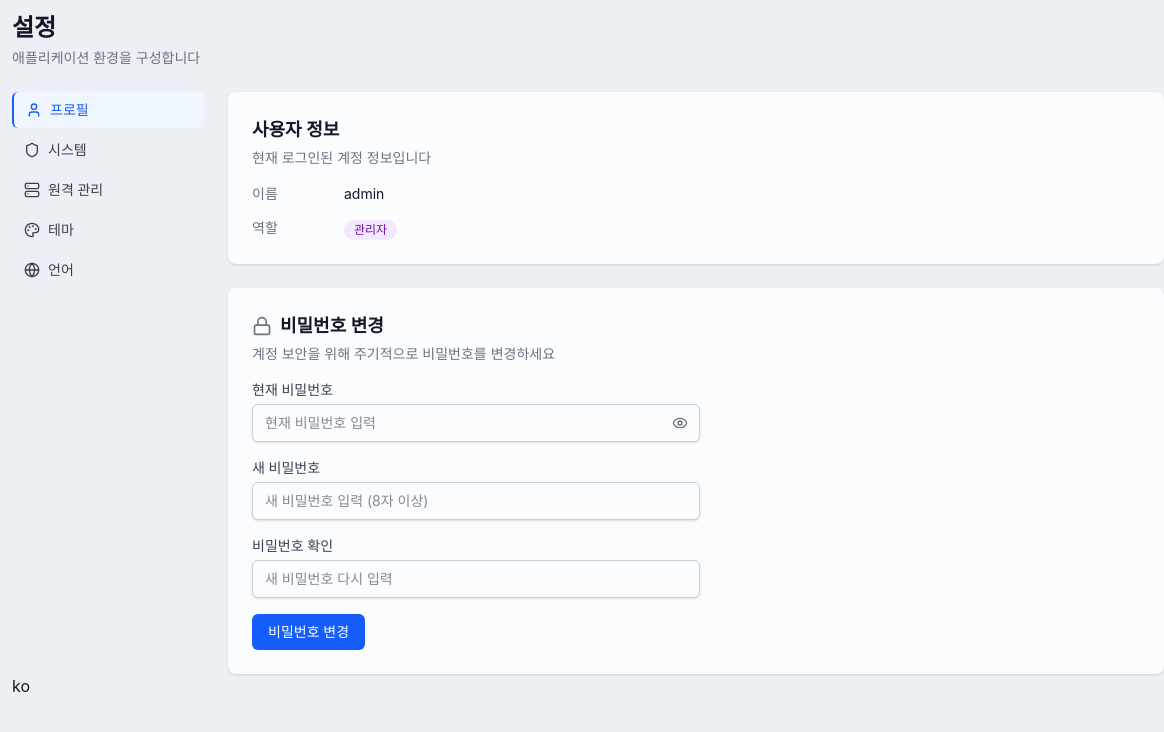
it: SettingsPage 언어 탭 — i18n 연동 › English 라디오 클릭 시 i18n locale 이 en 으로 전환된다
The width and height of the screenshot is (1164, 732).
Expected: the text with test id "locale-probe" reads "ko", [12,676,30,696]
// 언어 탭으로 전환.
Click the button "언어".
click(108, 270)  # box [12,252,204,288]
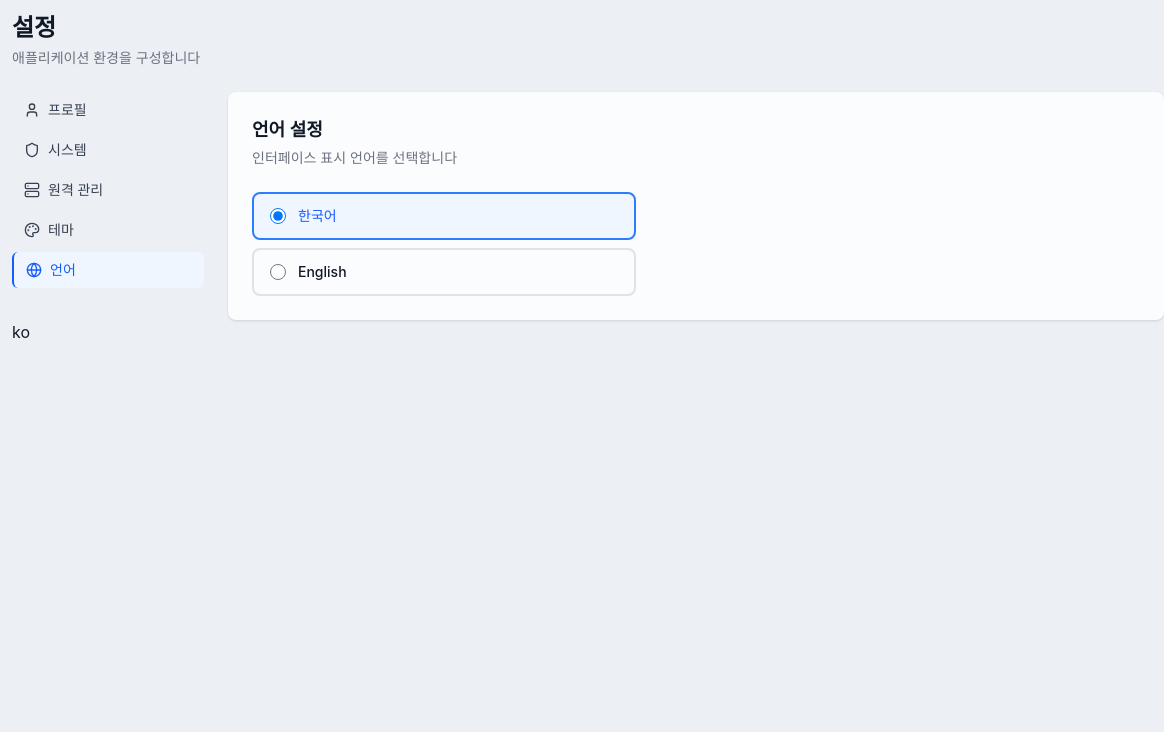
// "English" 라디오 선택.
Click the radio button labelled "English".
click(278, 272)  # box [270,264,286,280]
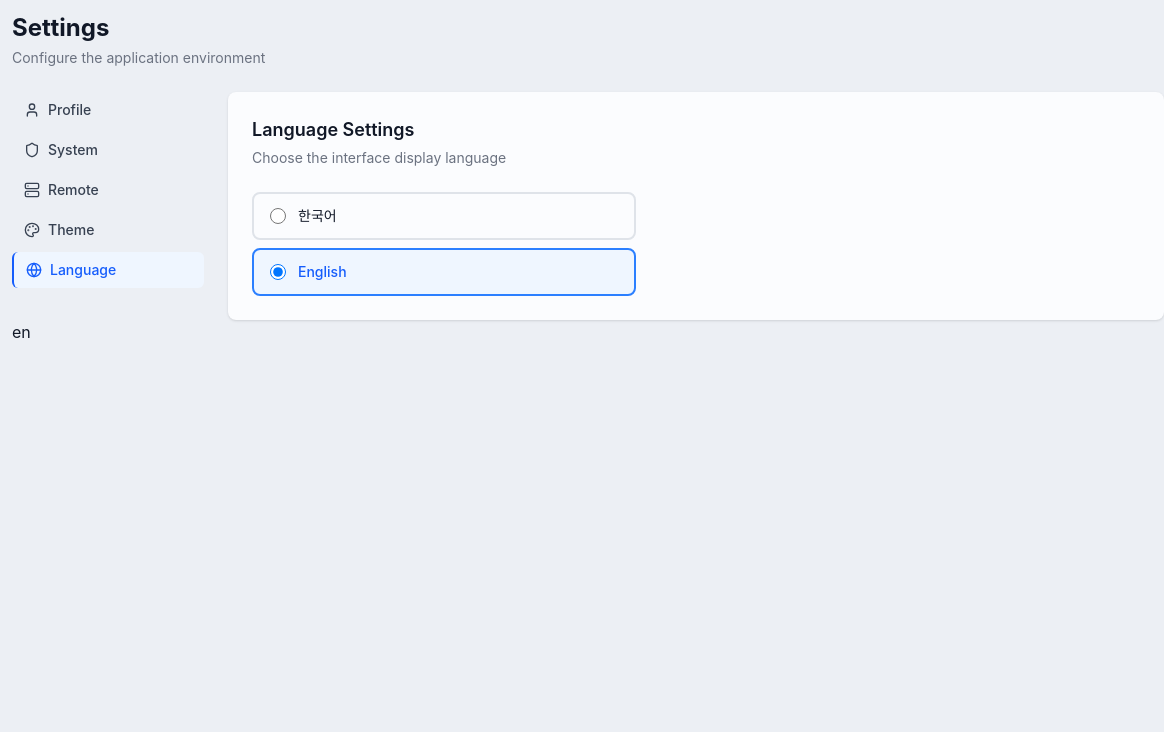
Result: the text with test id "locale-probe" reads "en" at [12,322,31,342]
